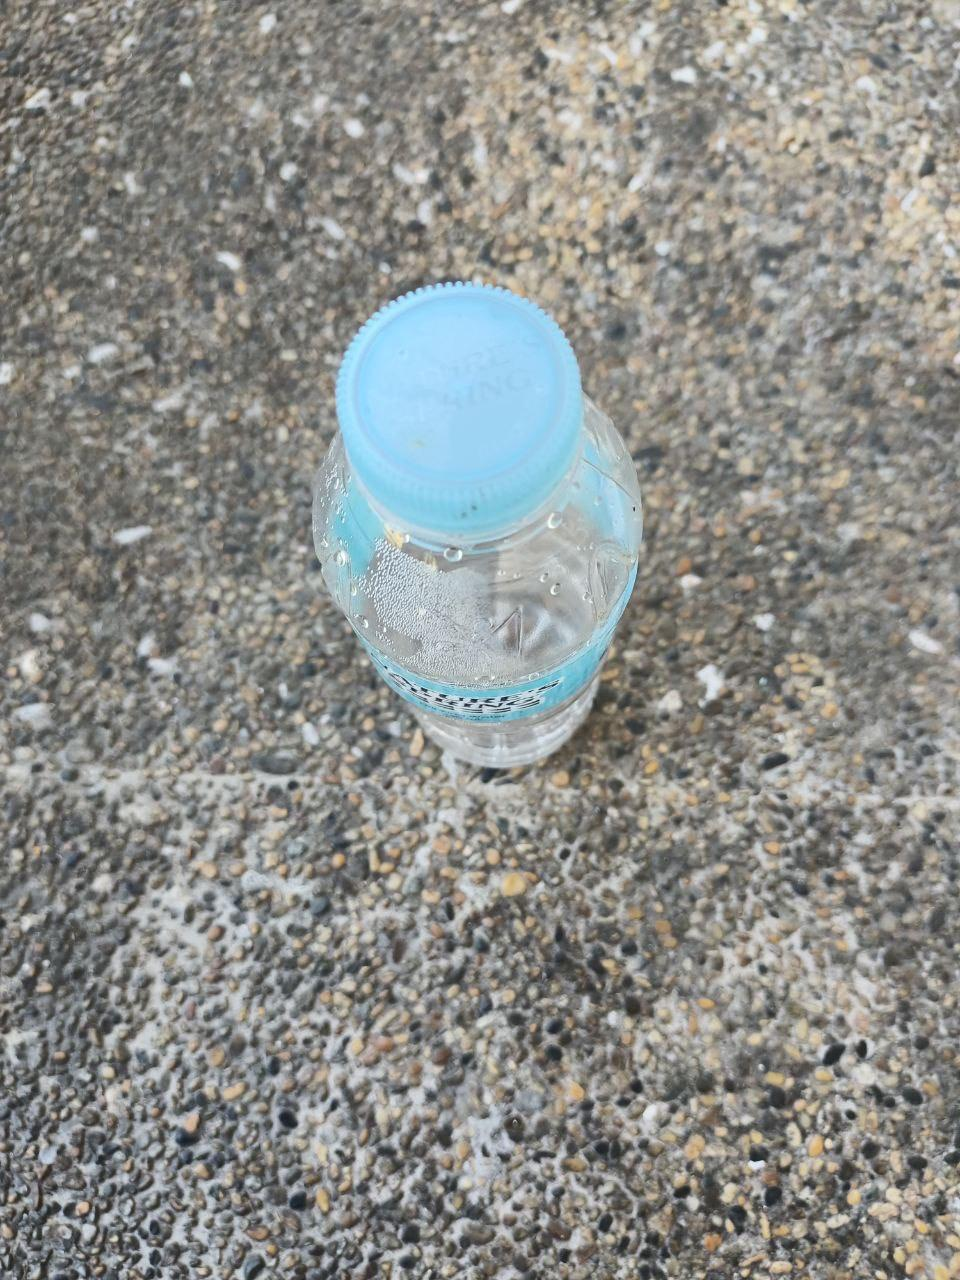plastic: (253, 274, 695, 804)
